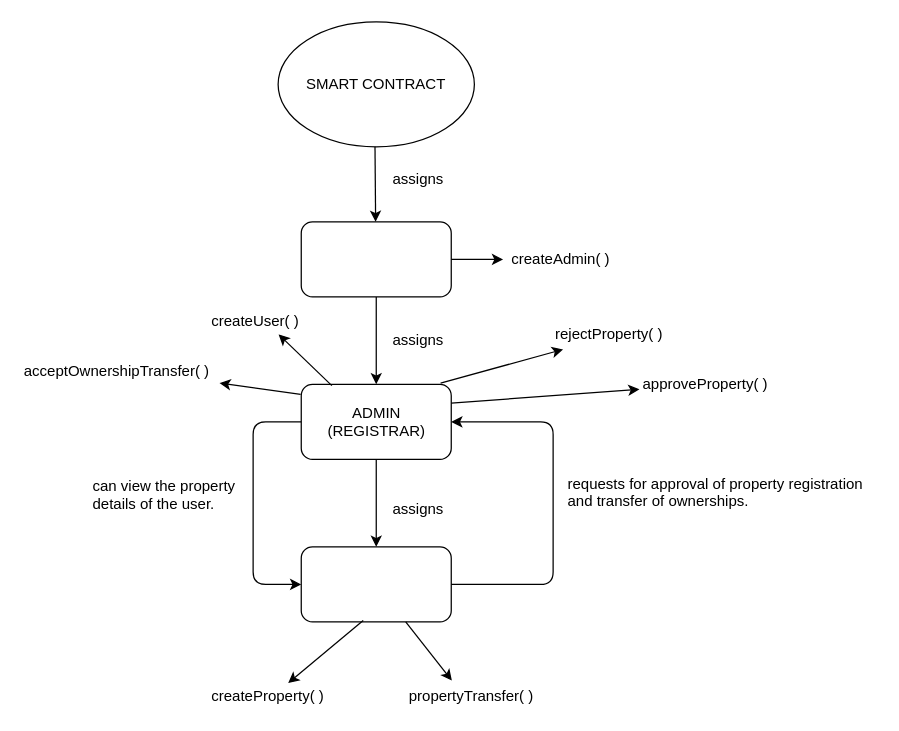
This 899x731 diagram has some shape labels left out. The shapes that lost their labels are listed below. From the top down, each one's centre as x and y in pixels, then its label:
At [375,259]: "SUPERADMIN".
At [375,584]: "USER".
